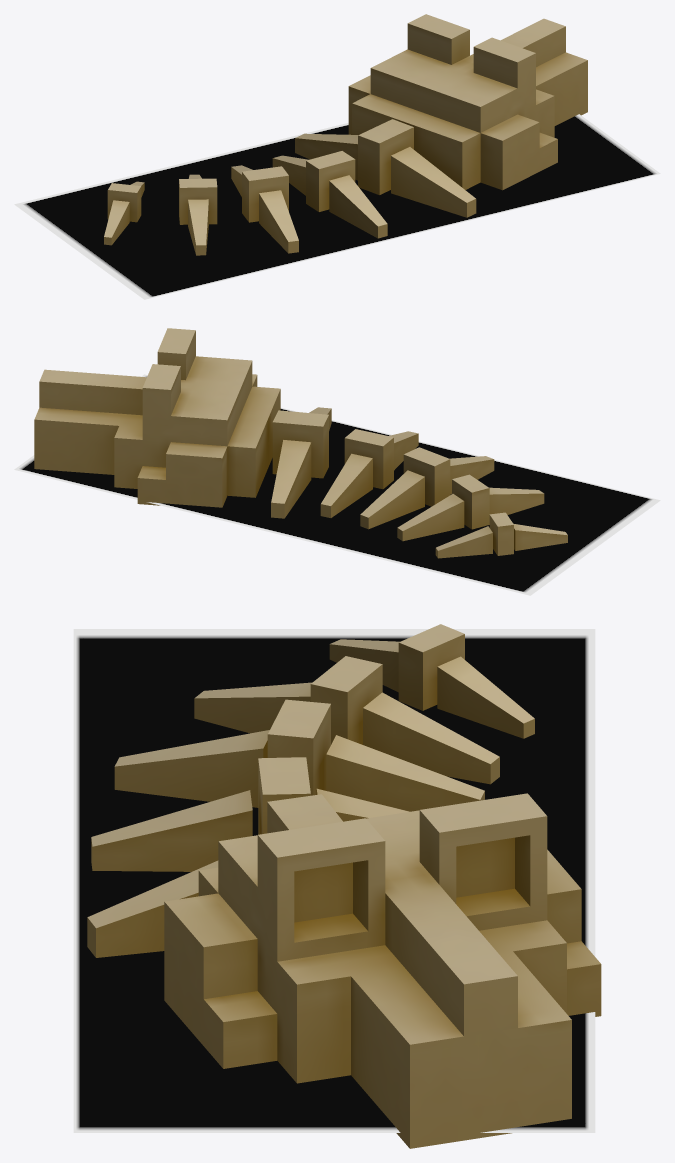
Rendered from 2x1_skeleton.FBX.
3 views of the same model, one above another, from view 1: azimuth 30°, elevation 25°; view 2: azimuth 150°, elevation 25°; view 3: azimuth 270°, elevation 25° (orthographic). The views are drawn at different scales.
Visible parts, largest first — view 1: 2x1_skeleton, 2x1_skeleton_soft_shadow; view 2: 2x1_skeleton, 2x1_skeleton_soft_shadow; view 3: 2x1_skeleton, 2x1_skeleton_soft_shadow.
Boxes of the visible parts, <box> form: 2x1_skeleton: <box>104,14,587,255</box>; 2x1_skeleton_soft_shadow: <box>14,114,660,299</box>; 2x1_skeleton: <box>34,328,567,558</box>; 2x1_skeleton_soft_shadow: <box>14,374,660,595</box>; 2x1_skeleton: <box>87,624,601,1148</box>; 2x1_skeleton_soft_shadow: <box>73,629,595,1132</box>.
Size of the model in its own units: 2120 by 400 by 918.
